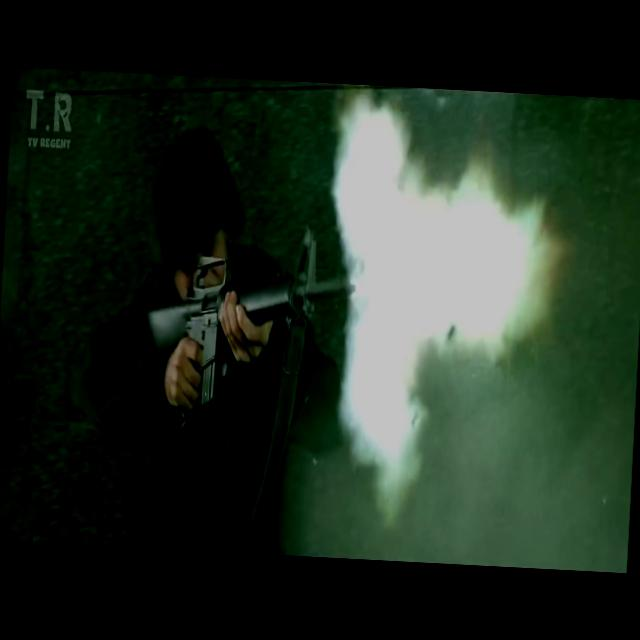long weapon: (117, 212, 386, 450)
